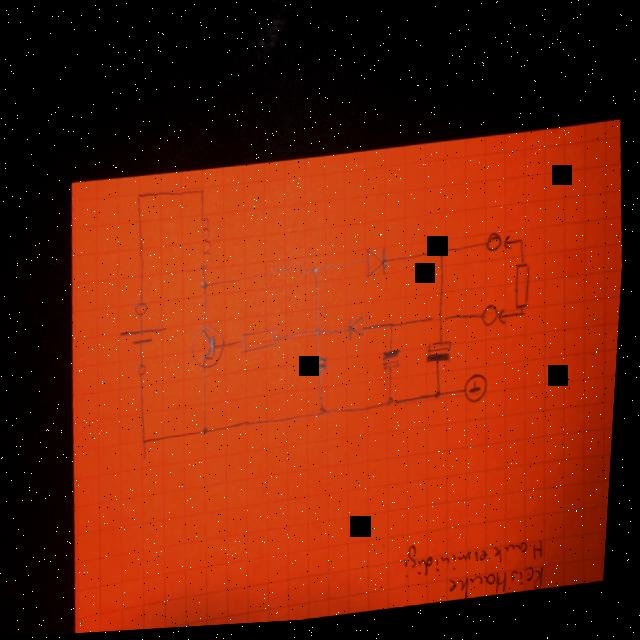capacitor: (428, 343, 458, 370), (384, 350, 406, 374), (311, 357, 335, 377)
crossover: (430, 311, 458, 332)
diode: (365, 248, 392, 284), (350, 316, 371, 343)
ground: (465, 374, 494, 412)
inductor: (197, 216, 218, 274), (270, 262, 308, 284)
junction: (203, 422, 215, 440), (201, 278, 213, 296), (389, 321, 401, 339), (135, 189, 148, 205), (320, 405, 332, 422), (389, 397, 401, 414), (315, 326, 327, 343), (143, 433, 154, 451), (438, 389, 449, 407), (196, 186, 209, 201), (439, 250, 450, 267), (313, 265, 324, 282), (517, 242, 529, 256), (520, 312, 529, 325)
resistor: (242, 328, 285, 359), (514, 267, 537, 315)
source: (118, 323, 174, 355)
transistor: (191, 323, 232, 373)
